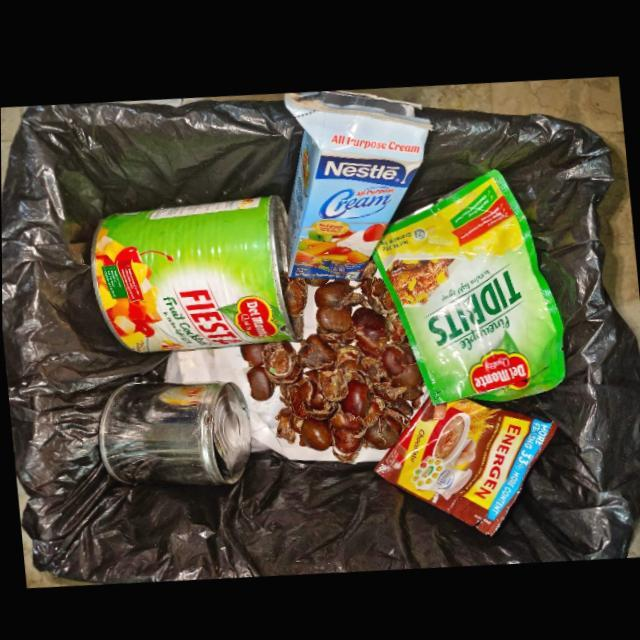biowaste: (357, 354, 423, 417), (319, 343, 387, 399), (282, 368, 338, 417), (262, 338, 303, 383), (314, 278, 363, 307), (357, 275, 396, 311), (360, 411, 400, 446), (377, 340, 417, 374), (337, 378, 370, 418), (301, 331, 335, 369), (332, 424, 365, 461), (280, 269, 307, 314), (391, 361, 422, 397), (298, 415, 330, 448), (245, 363, 273, 399), (328, 405, 364, 433), (315, 304, 351, 331), (274, 405, 301, 439), (319, 326, 354, 346), (353, 258, 377, 285), (239, 341, 265, 365), (386, 309, 404, 339)
metal: (90, 192, 305, 351), (97, 377, 250, 484)
paper: (283, 87, 434, 277)
plastic: (350, 305, 391, 354)
wrapper: (371, 163, 565, 401), (373, 393, 556, 531)
